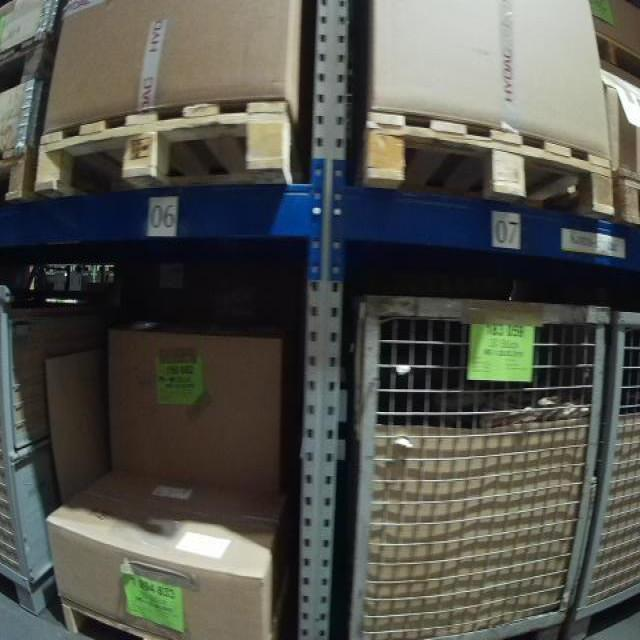pallet: (357, 110, 614, 222), (33, 103, 306, 199), (0, 33, 61, 92), (60, 605, 149, 638), (1, 151, 36, 201)
stillage: (343, 286, 614, 639), (0, 278, 146, 616), (565, 297, 638, 638)
